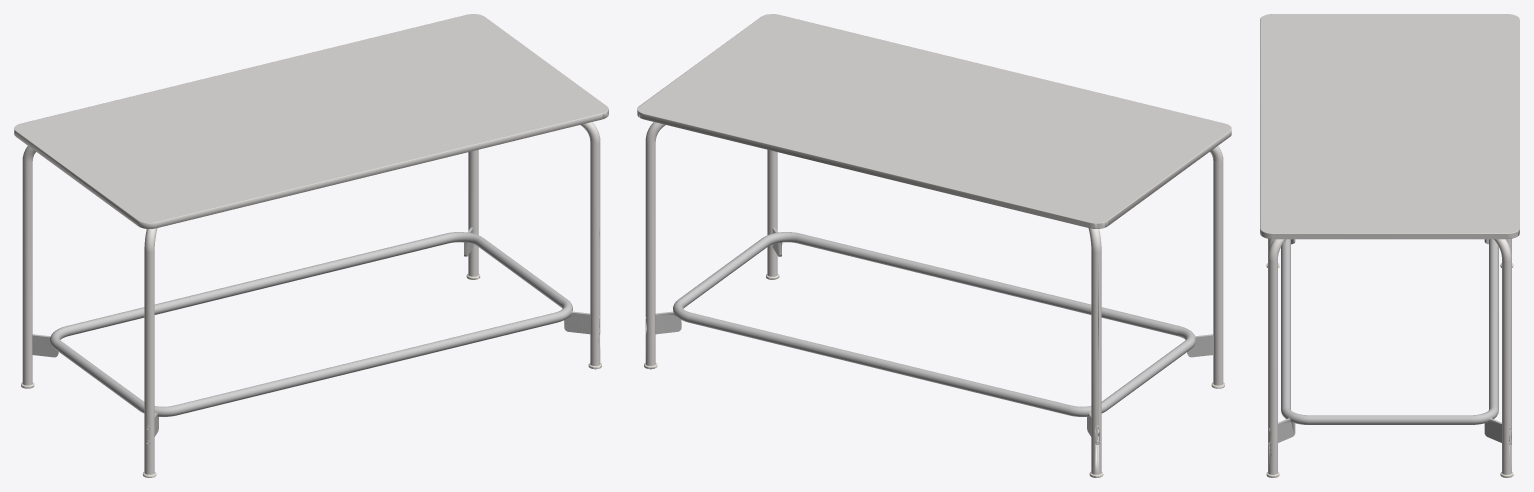
The model's file is vitra-scout-meet-high-9746215.optimized.glb.
The picture shows the model from 3 angles, left to right: view 1: azimuth 30°, elevation 25°; view 2: azimuth 150°, elevation 25°; view 3: azimuth 270°, elevation 25°; orthographic projection. The views are drawn at different scales.
Visible parts, largest first — view 1: SCOUT_MEET_TABLETOP, SCOUT_MEET_SCREWS, SCOUT_MEET_BEAMS; view 2: SCOUT_MEET_TABLETOP, SCOUT_MEET_SCREWS, SCOUT_MEET_BEAMS; view 3: SCOUT_MEET_TABLETOP, SCOUT_MEET_SCREWS, SCOUT_MEET_BEAMS.
Boxes of the visible parts, x1=… form: SCOUT_MEET_TABLETOP: x1=14, y1=14, x2=608, y2=228; SCOUT_MEET_SCREWS: x1=32, y1=227, x2=600, y2=443; SCOUT_MEET_BEAMS: x1=22, y1=122, x2=600, y2=474; SCOUT_MEET_TABLETOP: x1=637, y1=14, x2=1231, y2=228; SCOUT_MEET_SCREWS: x1=645, y1=227, x2=1213, y2=443; SCOUT_MEET_BEAMS: x1=645, y1=122, x2=1223, y2=474; SCOUT_MEET_TABLETOP: x1=1260, y1=14, x2=1519, y2=239; SCOUT_MEET_SCREWS: x1=1269, y1=239, x2=1510, y2=444; SCOUT_MEET_BEAMS: x1=1268, y1=238, x2=1511, y2=474.
Size of the model in its own units: 2 by 1.05 by 0.9998.
4 materials, 1 textured.
